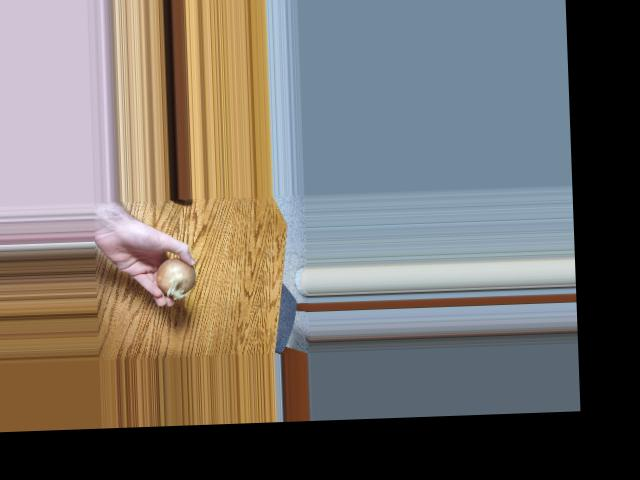onion: (152, 256, 195, 295)
